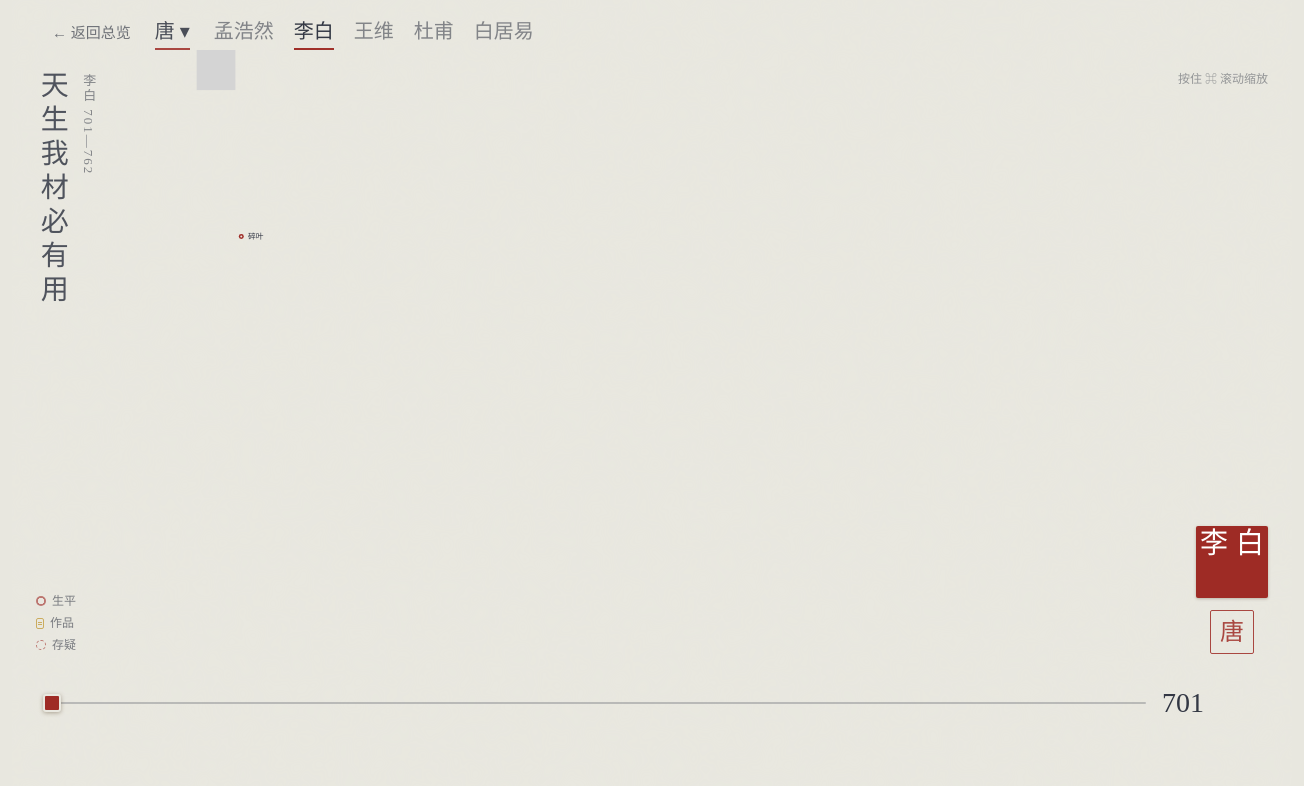
Test case: PoetPage MiniMap 悬浮开关 › 无文人的朝代菜单项为禁用文本而非链接（D10 扩展守卫）
Click the button "唐 ▾" at [172, 33], box x1=155 y1=16 x2=190 y2=50
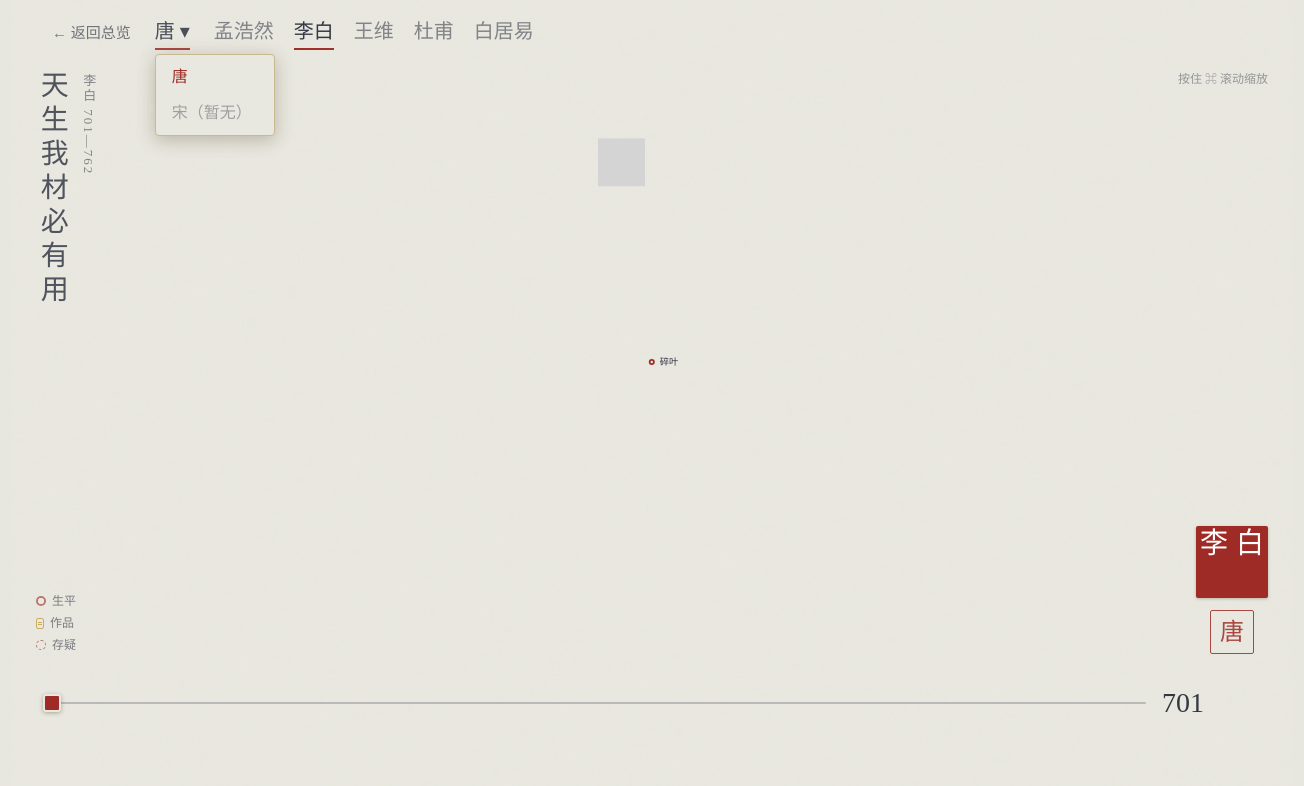
expect the text "宋（暂无）" is shown: met, box x1=172 y1=104 x2=252 y2=121
